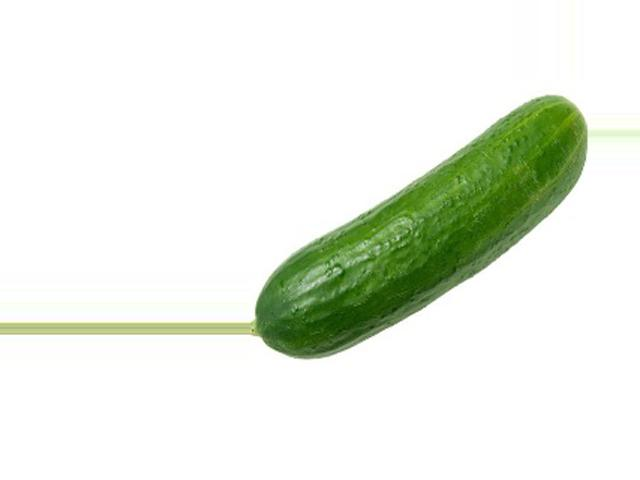cucumber: (250, 96, 588, 360)
